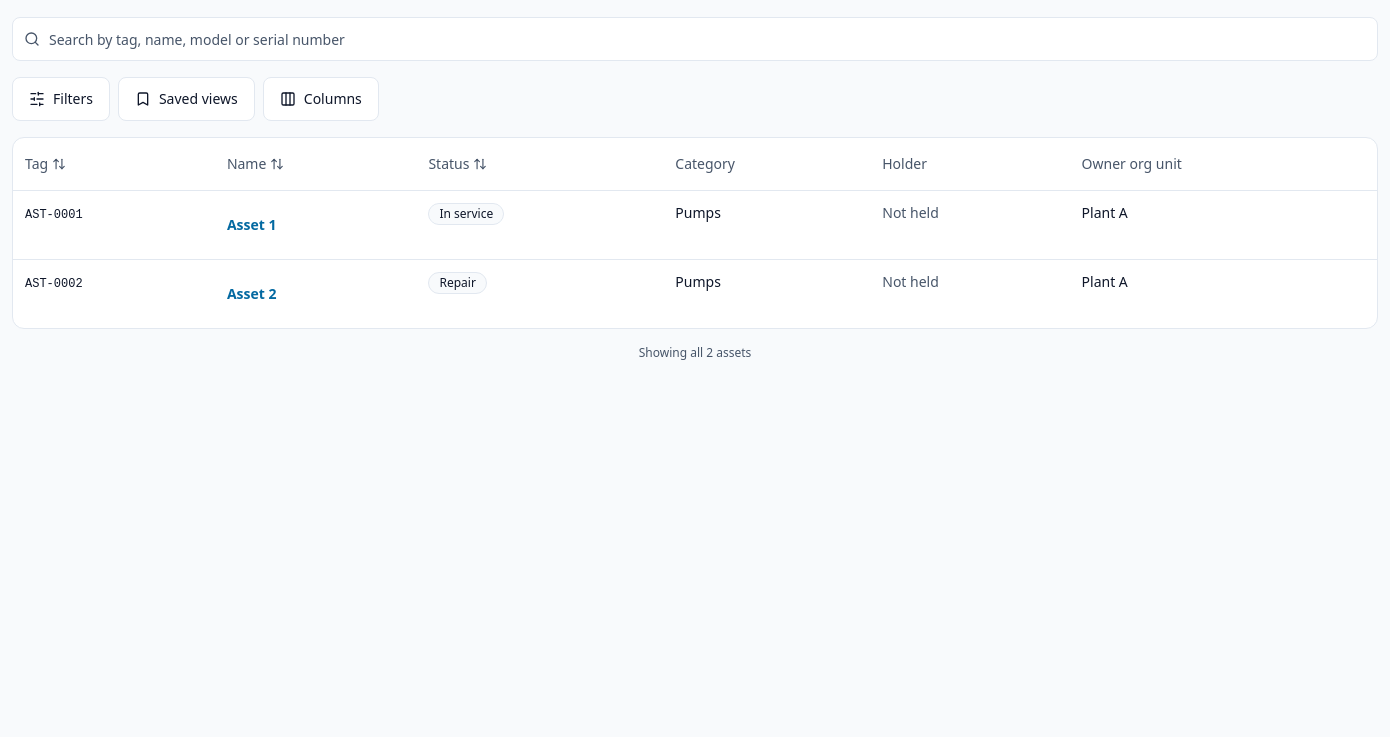
AssetsPage search, filters and URL › filters by a status checkbox from the filter panel
Expected: the link "Asset 1" is shown, [227,215,276,234]
Click the button "Filters" at (61, 99), box [12,77,110,121]
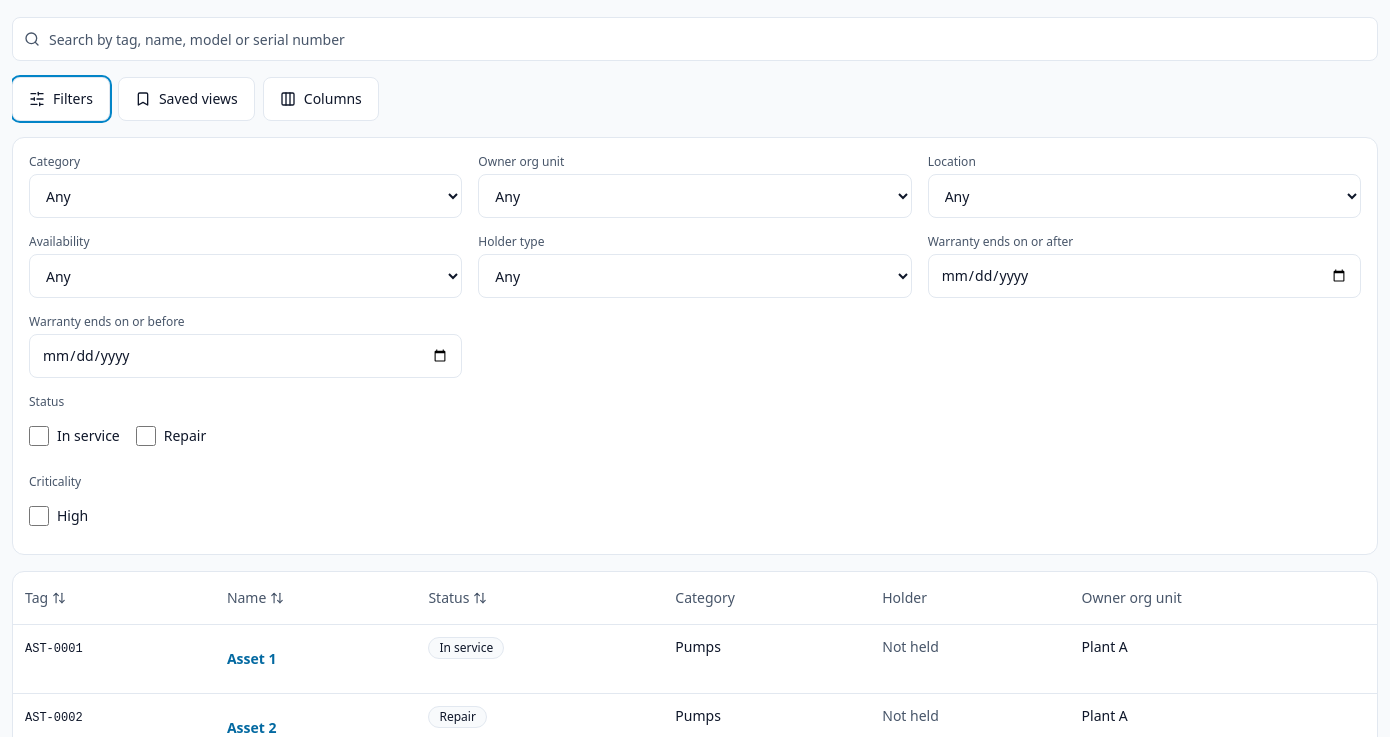
Click the checkbox labelled "Repair" at (146, 436), box [136,426,156,446]
(page scrolled)
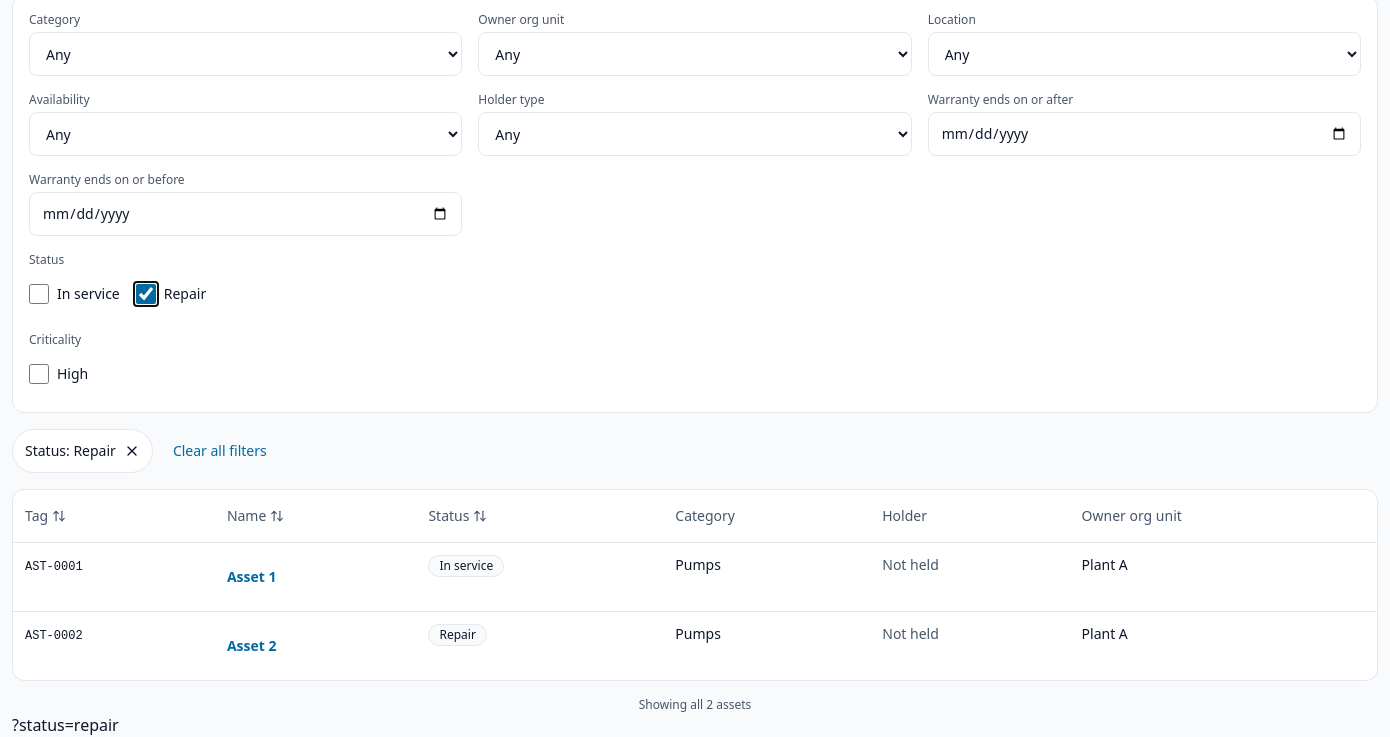
Now the text with test id "url" reads "?status=repair", box [12,714,119,736]
